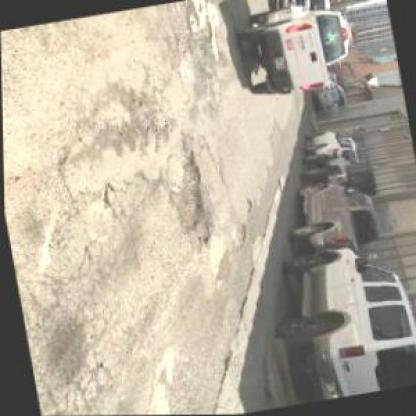pothole: (169, 150, 212, 230), (190, 223, 214, 248), (201, 18, 221, 46)
